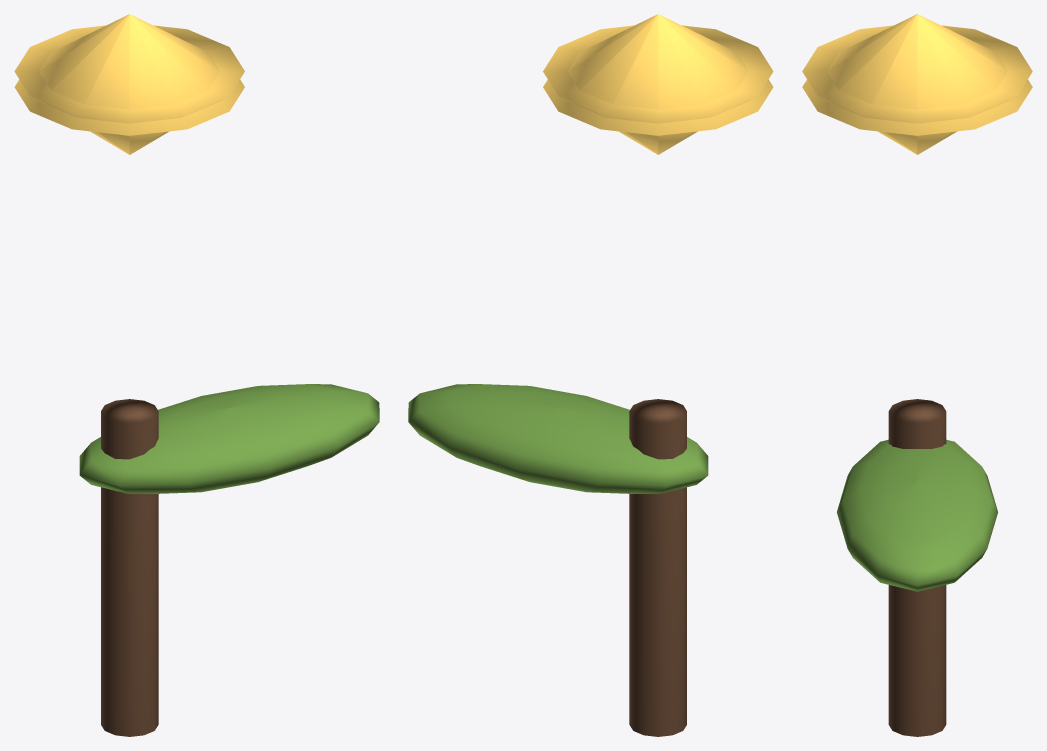
File: seed_lamp.glb
3 views of the same model, side by side, from view 1: azimuth 30°, elevation 25°; view 2: azimuth 150°, elevation 25°; view 3: azimuth 270°, elevation 25° (orthographic).
Parts seen in each view (by area): view 1: leaf, stem, crystal_upper, crystal_lower; view 2: leaf, stem, crystal_upper, crystal_lower; view 3: leaf, crystal_upper, stem, crystal_lower.
Part boxes in pixels (x1=…): leaf: x1=79, y1=384, x2=379, y2=493; stem: x1=101, y1=399, x2=158, y2=736; crystal_upper: x1=14, y1=14, x2=244, y2=135; crystal_lower: x1=14, y1=25, x2=244, y2=154; leaf: x1=408, y1=384, x2=708, y2=493; stem: x1=629, y1=399, x2=686, y2=736; crystal_upper: x1=543, y1=14, x2=773, y2=135; crystal_lower: x1=543, y1=25, x2=773, y2=154; leaf: x1=837, y1=439, x2=997, y2=591; crystal_upper: x1=802, y1=14, x2=1032, y2=135; stem: x1=888, y1=399, x2=946, y2=736; crystal_lower: x1=802, y1=25, x2=1032, y2=154.
Bounding box in the file's own units: 0.35 × 0.68 × 0.2.
